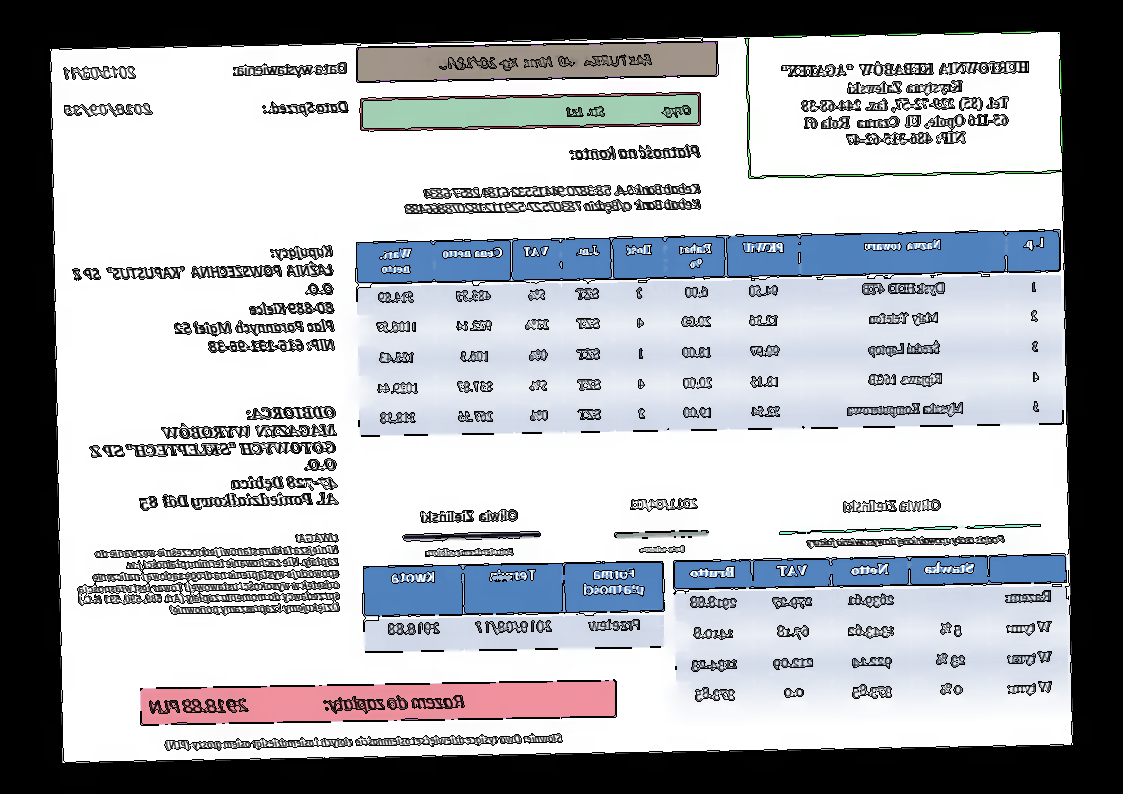Table: (354, 229, 1066, 437), (673, 554, 1071, 713), (362, 559, 666, 654)
TextBox: (71, 243, 338, 359), (87, 404, 341, 514), (777, 53, 1035, 153), (74, 529, 342, 619), (403, 179, 704, 217), (163, 727, 565, 754), (148, 689, 468, 717), (422, 51, 657, 73), (804, 531, 1007, 551), (568, 142, 704, 164), (231, 58, 349, 82), (562, 100, 695, 121), (839, 495, 945, 515), (62, 100, 156, 120), (261, 97, 350, 118), (419, 507, 522, 525), (61, 63, 138, 82), (628, 495, 700, 514), (422, 545, 517, 559), (638, 543, 688, 554)
